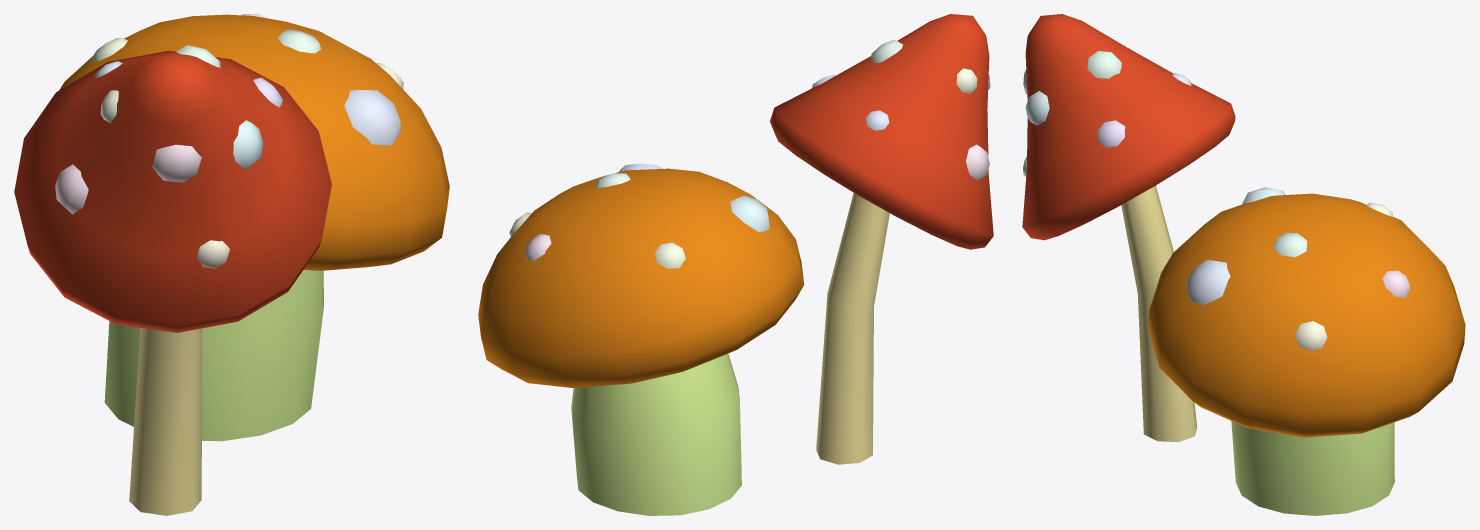
Rendered from S_food.glb.
3 views of the same model, side by side, from view 1: azimuth 30°, elevation 25°; view 2: azimuth 150°, elevation 25°; view 3: azimuth 270°, elevation 25° (orthographic). The views are drawn at different scales.
Parts seen in each view (by area): view 1: Mushroom.003_0 Universal_0; view 2: Mushroom.003_0 Universal_0; view 3: Mushroom.003_0 Universal_0.
Boxes of the visible parts, x1,y1,x2,y2 form: Mushroom.003_0 Universal_0: [14, 14, 449, 515]; Mushroom.003_0 Universal_0: [478, 14, 993, 515]; Mushroom.003_0 Universal_0: [1022, 14, 1465, 515].
Size of the model in its own units: 2.42 by 2.37 by 2.44.
Materials: 1 (1 with a texture image).
